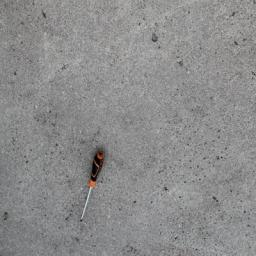FOD: (79, 149, 106, 227)
